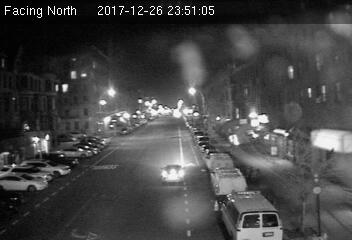car: (158, 165, 187, 184)
truck: (219, 185, 289, 240), (212, 168, 246, 195)
